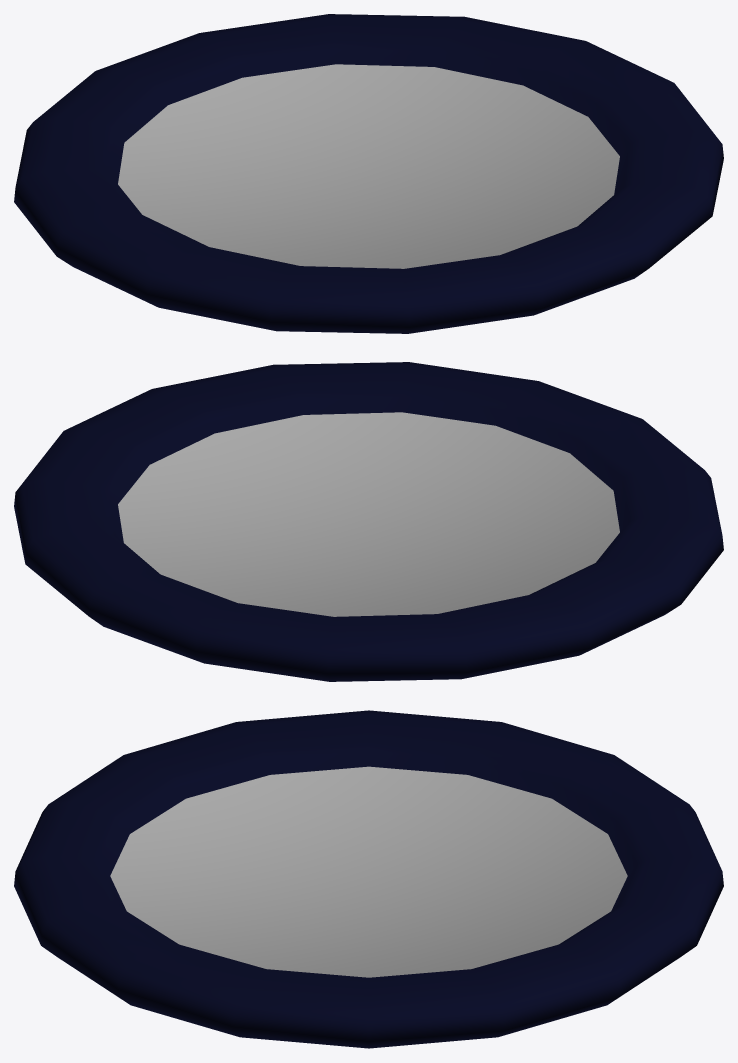
Rendered from KHIP_Plate.FBX.
The picture shows the model from 3 angles, top to bottom: view 1: azimuth 30°, elevation 25°; view 2: azimuth 150°, elevation 25°; view 3: azimuth 270°, elevation 25°; orthographic projection. The views are drawn at different scales.
Parts seen in each view (by area): view 1: KHIP_Plate; view 2: KHIP_Plate; view 3: KHIP_Plate.
Boxes of the visible parts, box(x1,y1,x2,y2) form: KHIP_Plate: box(14, 14, 723, 333); KHIP_Plate: box(14, 362, 723, 681); KHIP_Plate: box(14, 710, 723, 1048).
Bounding box in the file's own units: 29.37 × 2.48 × 28.29.
